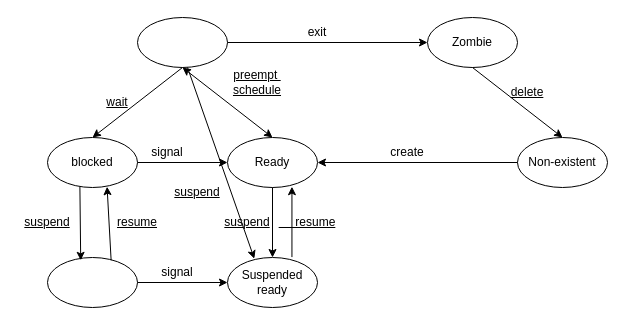
This 625x325 diagram has some shape labels left out. Here are the shapes that lost their labels. From the top down, the centre of each, then its label:
At (182,42): "Running".
At (92,282): "Suspended blocked".
